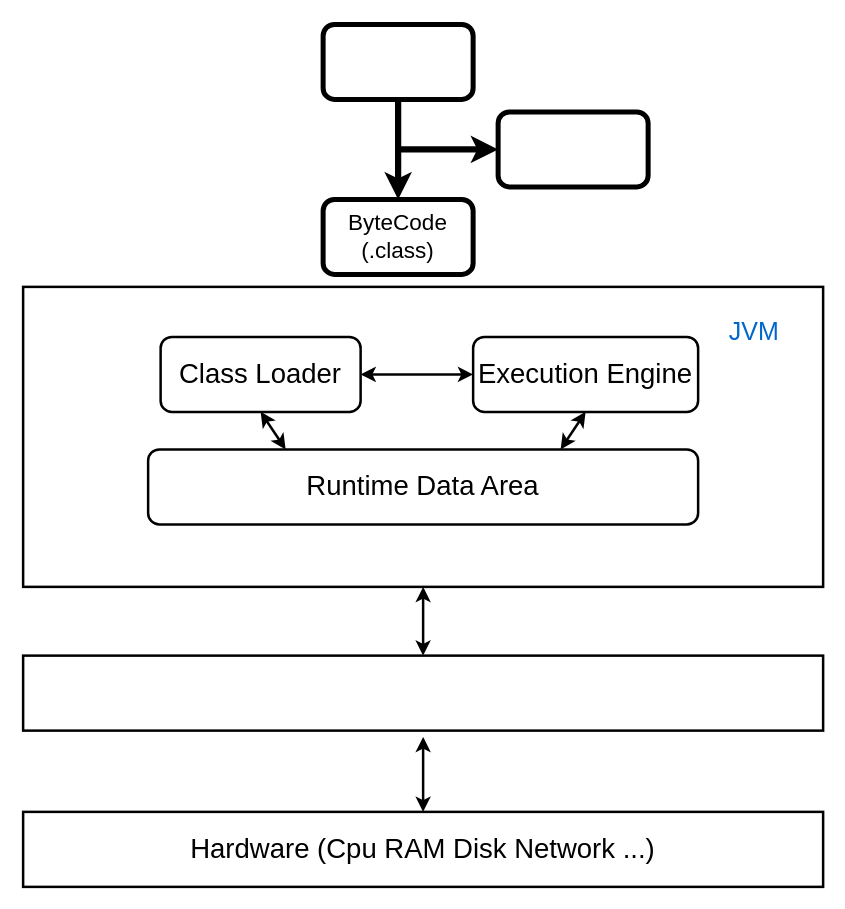
Image size: 845x909. Some labels were removed from this diagram. Here are the shapes that lost their labels. From the top down, the box of each, then its label:
(320, 21, 475, 101): Source (.java ...)
(495, 109, 650, 189): Compiler (javac ...)
(21, 654, 824, 731): OS (windows linux unix mac ...)
